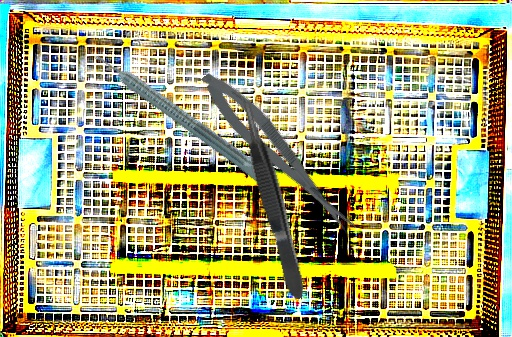Handpiece: (90, 41, 290, 195)
Micro Scissor: (192, 62, 363, 246)
Tissue Forceps: (235, 97, 308, 303)
